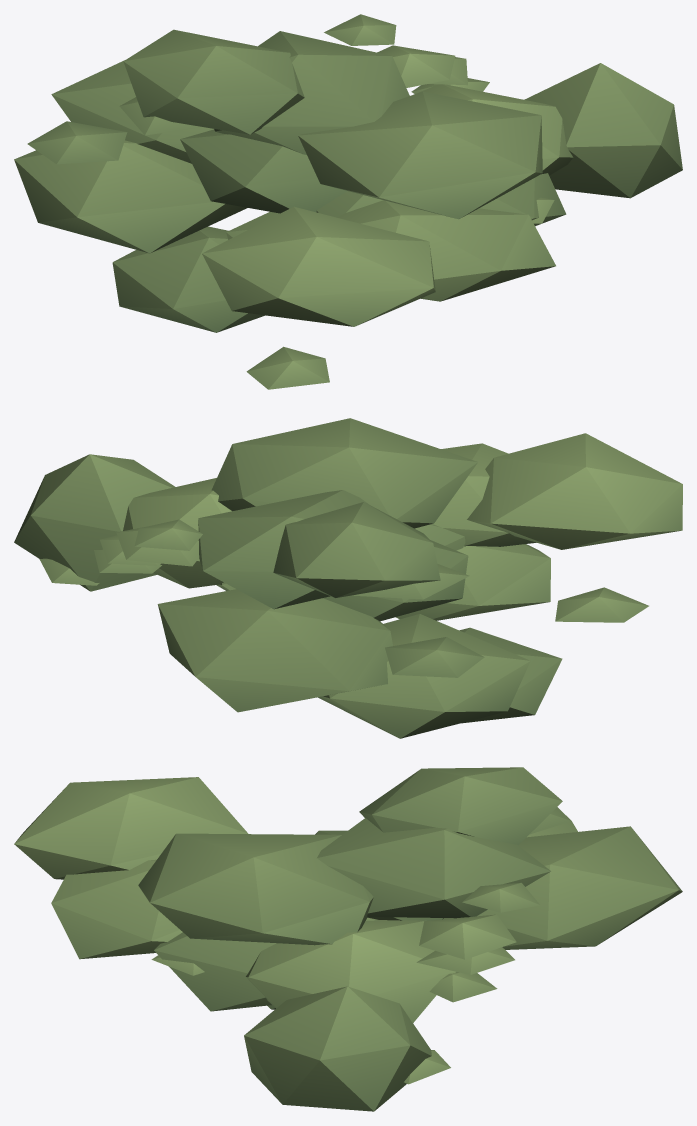
File: env_bush_low_01.glb
3 renders of one model, top to bottom at view 1: azimuth 30°, elevation 25°; view 2: azimuth 150°, elevation 25°; view 3: azimuth 270°, elevation 25°, orthographic.
Parts seen in each view (by area): view 1: bush_low_01; view 2: bush_low_01; view 3: bush_low_01.
Boxes of the visible parts, left/top/right/bottom form: bush_low_01: left=14, top=14, right=682, bottom=389; bush_low_01: left=14, top=418, right=682, bottom=738; bush_low_01: left=14, top=767, right=682, bottom=1111.
Bounding box in the file's own units: 0.5377 × 0.1784 × 0.5642.
